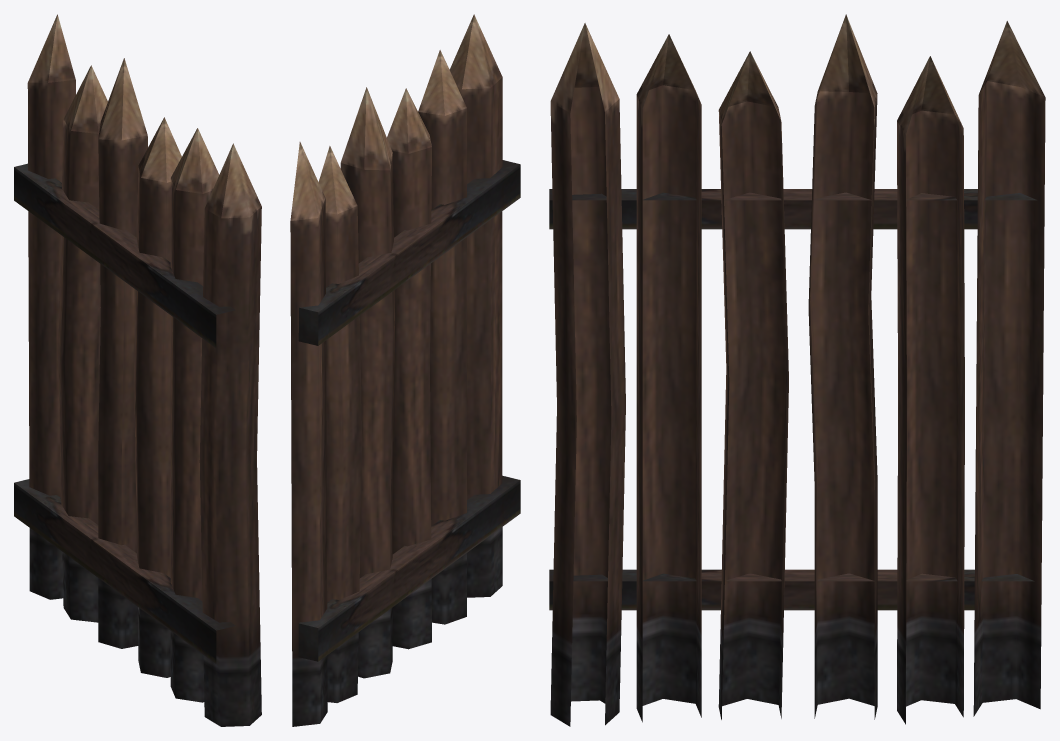
The model's file is Barrack_Buidling_door_Side.FBX.
3 views of the same model, side by side, from view 1: azimuth 30°, elevation 25°; view 2: azimuth 150°, elevation 25°; view 3: azimuth 270°, elevation 25° (orthographic). The views are drawn at different scales.
Visible parts, largest first — view 1: Barrack_Buidling_door; view 2: Barrack_Buidling_door; view 3: Barrack_Buidling_door.
Part boxes in pixels (x1,y1,x2,y2): Barrack_Buidling_door: (14,14,261,726); Barrack_Buidling_door: (290,14,520,726); Barrack_Buidling_door: (549,14,1045,726).
Bounding box in the file's own units: 77.18 × 788 × 507.
